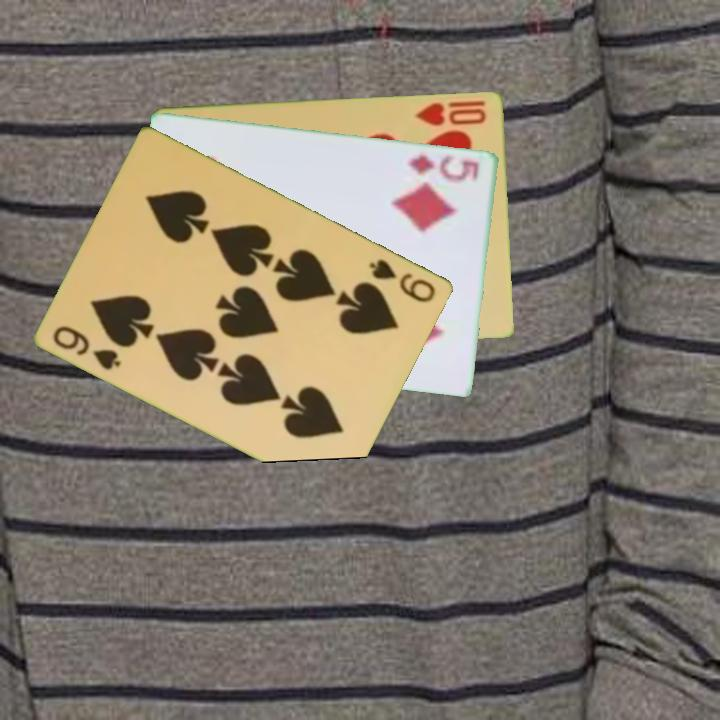10h: (412, 98, 489, 129)
5d: (404, 151, 483, 184)
9s: (50, 321, 125, 373), (366, 255, 439, 306)
